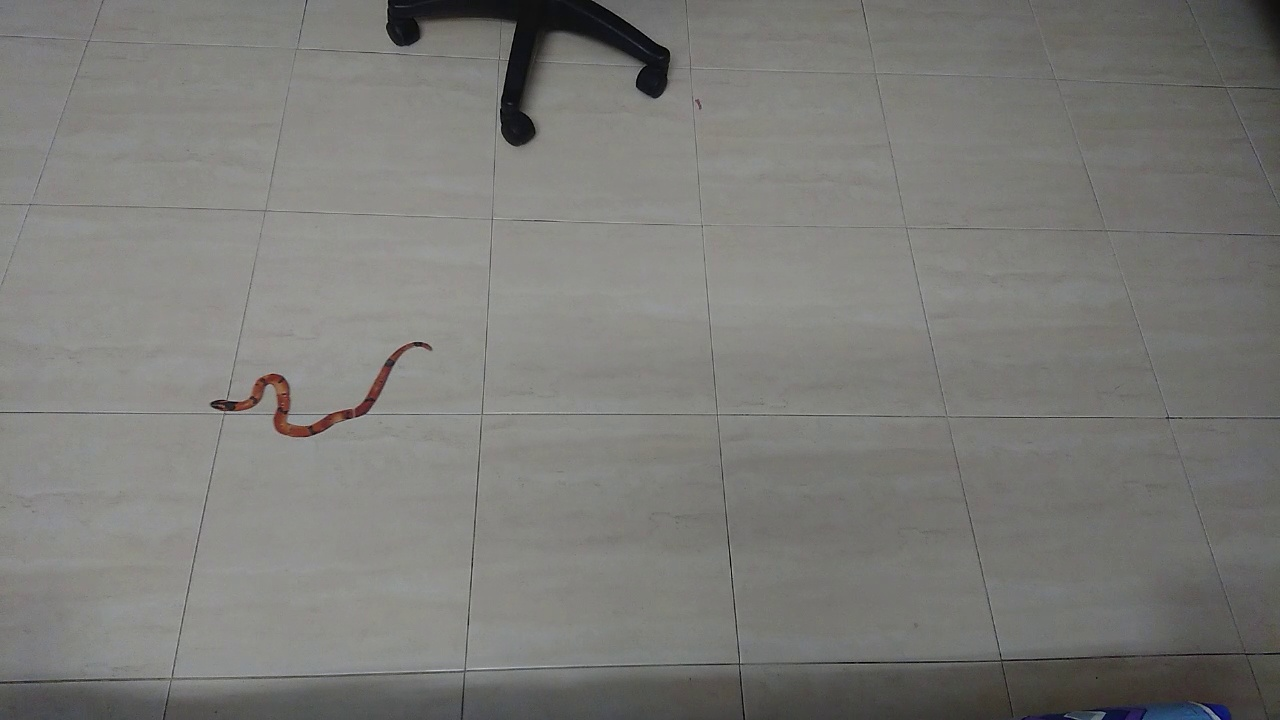snake: (191, 327, 459, 450)
